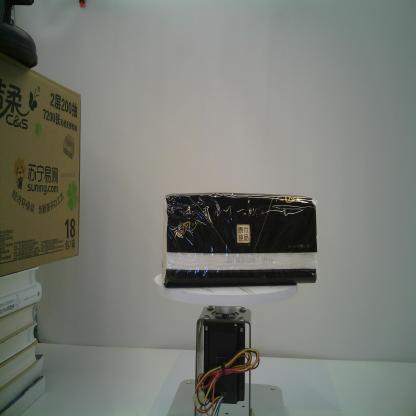Tissue: (160, 190, 320, 291)
